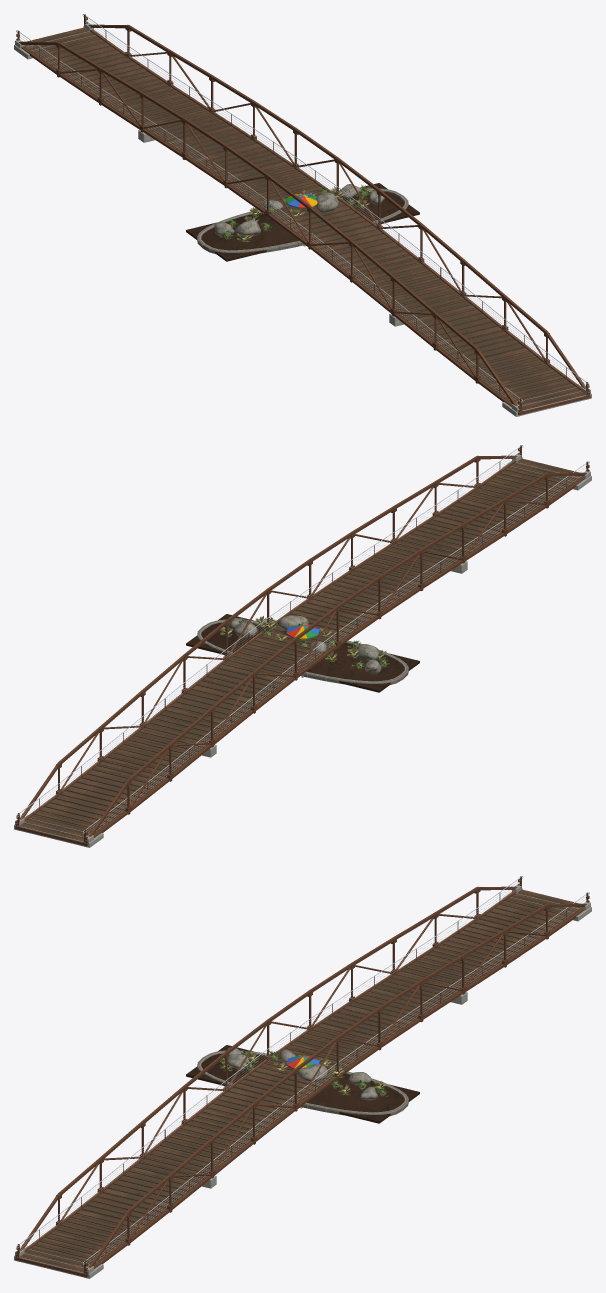
Rendered from props_and_bridge_v6.glb.
3 renders of one model, top to bottom at view 1: azimuth 30°, elevation 25°; view 2: azimuth 150°, elevation 25°; view 3: azimuth 330°, elevation 25°, orthographic.
Parts seen in each view (by area): view 1: Stevens_Creek_Bridge_V6_Assembly, Courtyard_Berm_MulchMound, Courtyard_Berm_CurbAndBoulders, Courtyard_Berm_GrassPlumes; view 2: Stevens_Creek_Bridge_V6_Assembly, Courtyard_Berm_MulchMound, Courtyard_Berm_CurbAndBoulders, Courtyard_Berm_GrassPlumes; view 3: Stevens_Creek_Bridge_V6_Assembly, Courtyard_Berm_MulchMound, Courtyard_Berm_CurbAndBoulders, Courtyard_Berm_GrassPlumes.
Part boxes in pixels (left/top/right/bottom): Stevens_Creek_Bridge_V6_Assembly: left=14, top=14, right=591, bottom=416; Courtyard_Berm_MulchMound: left=186, top=183, right=419, bottom=261; Courtyard_Berm_CurbAndBoulders: left=197, top=184, right=408, bottom=253; Courtyard_Berm_GrassPlumes: left=237, top=184, right=373, bottom=241; Stevens_Creek_Bridge_V6_Assembly: left=14, top=445, right=591, bottom=847; Courtyard_Berm_MulchMound: left=186, top=614, right=419, bottom=692; Courtyard_Berm_CurbAndBoulders: left=197, top=615, right=408, bottom=684; Courtyard_Berm_GrassPlumes: left=220, top=616, right=386, bottom=661; Stevens_Creek_Bridge_V6_Assembly: left=14, top=876, right=591, bottom=1278; Courtyard_Berm_MulchMound: left=186, top=1045, right=419, bottom=1123; Courtyard_Berm_CurbAndBoulders: left=197, top=1047, right=408, bottom=1115; Courtyard_Berm_GrassPlumes: left=219, top=1051, right=385, bottom=1095.
Size of the model in its own units: 18.39 by 5.03 by 80.31.
Materials: 6 (6 with a texture image).
